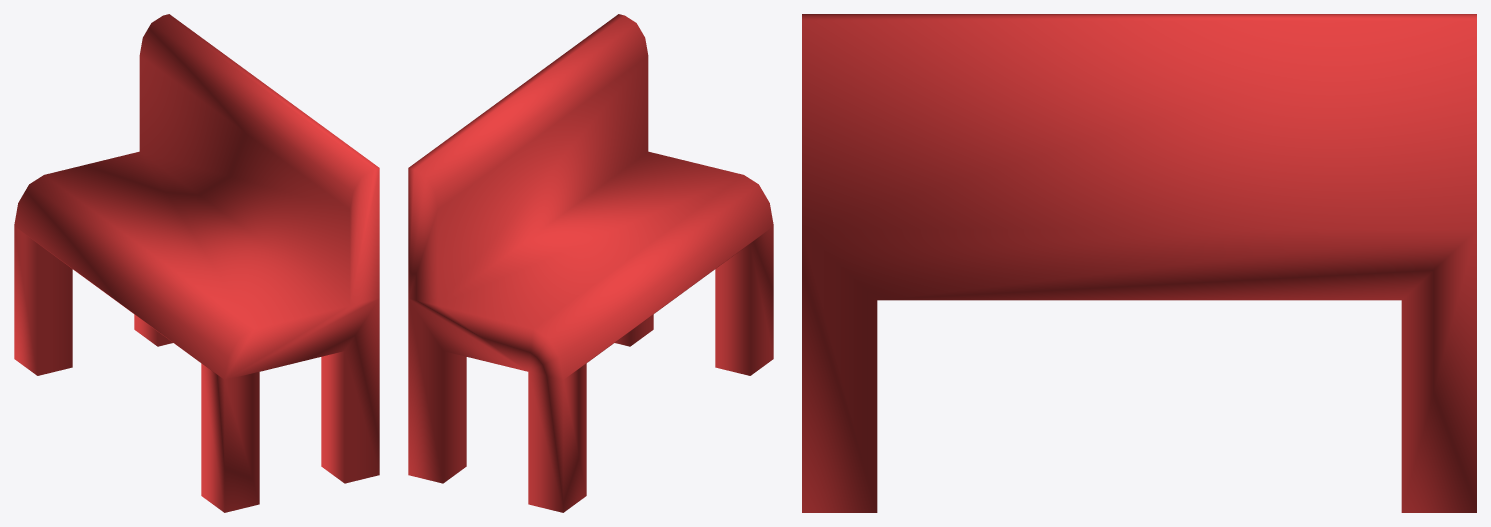
File: Bank.fbx
3 renders of one model, left to right at view 1: azimuth 30°, elevation 25°; view 2: azimuth 150°, elevation 25°; view 3: azimuth 270°, elevation 25°, orthographic. The views are drawn at different scales.
Visible parts, largest first — view 1: Cube.001; view 2: Cube.001; view 3: Cube.001.
Part boxes in pixels (x1,y1,x2,y2): Cube.001: (14, 14, 379, 512); Cube.001: (408, 14, 773, 512); Cube.001: (802, 14, 1476, 512).
Bounding box in the file's own units: 0.5534 × 1.05 × 1.3.
